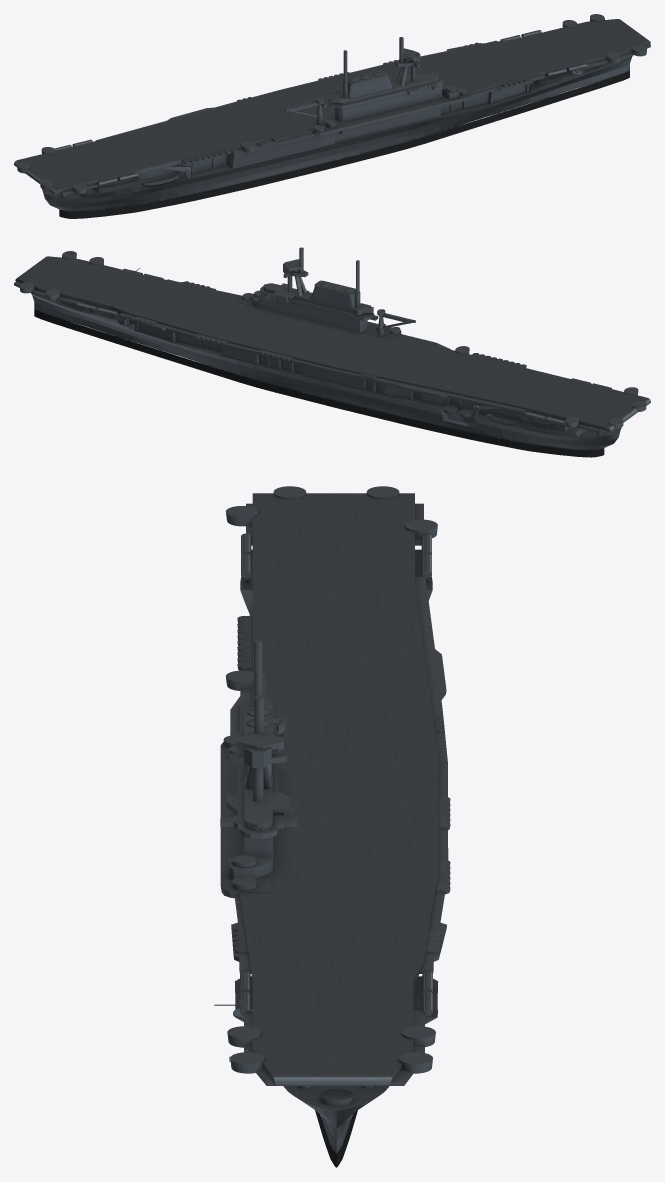
The model's file is essex-cv.glb.
3 renders of one model, top to bottom at view 1: azimuth 30°, elevation 25°; view 2: azimuth 150°, elevation 25°; view 3: azimuth 270°, elevation 25°, orthographic. The views are drawn at different scales.
Parts seen in each view (by area): view 1: Object_2, Skirt; view 2: Object_2, Skirt; view 3: Object_2.
Boxes of the visible parts, left/top/right/bottom form: Object_2: left=14, top=14, right=650, bottom=211; Skirt: left=59, top=70, right=629, bottom=218; Object_2: left=14, top=247, right=650, bottom=450; Skirt: left=34, top=309, right=604, bottom=457; Object_2: left=220, top=486, right=450, bottom=1153.
Bounding box in the file's own units: 269 × 48.24 × 44.92.
Materials: 4 (1 with a texture image).
